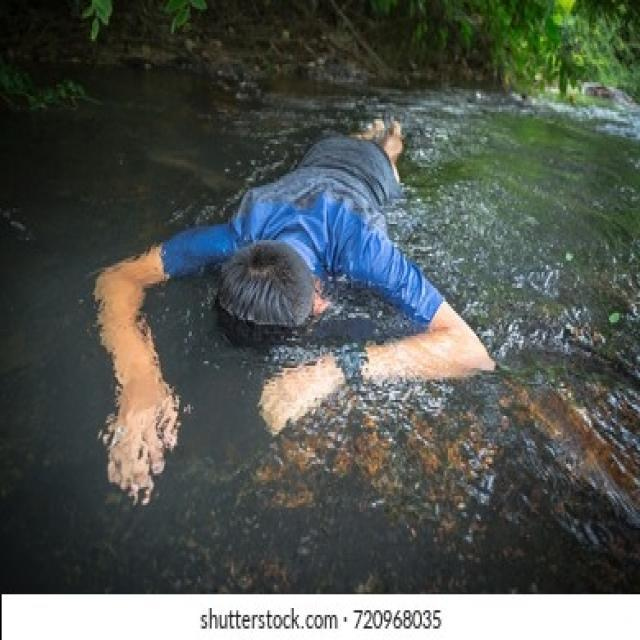Out of Water: (89, 108, 498, 506)
